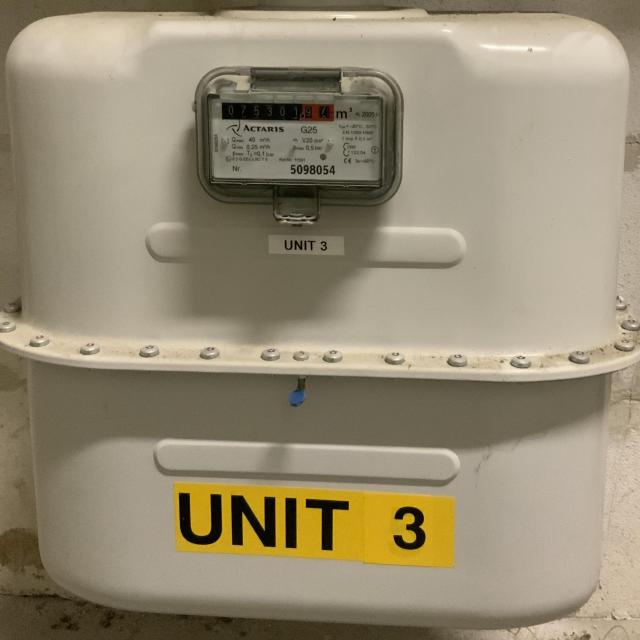gaz_meter: (207, 92, 392, 182)
indication: (221, 98, 336, 127)
